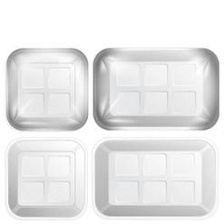foam_box: (89, 132, 224, 223), (89, 45, 224, 133), (2, 136, 89, 224), (3, 46, 89, 133)
